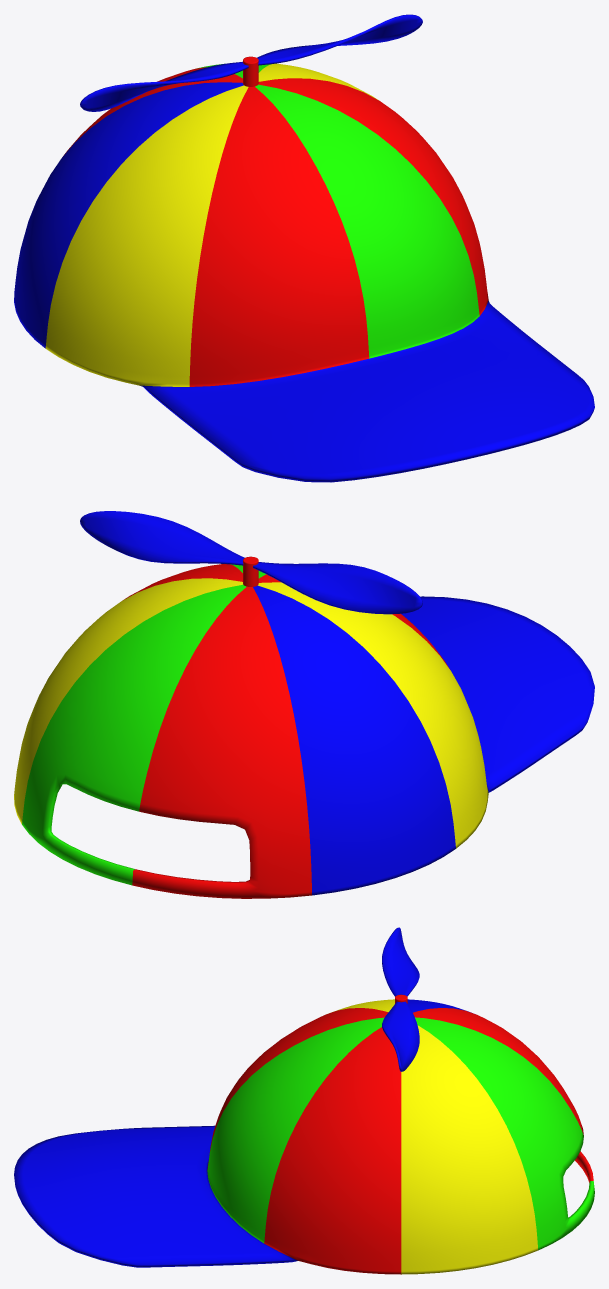
File: Ball_Cap_Propeller.fbx
The picture shows the model from 3 angles, top to bottom: view 1: azimuth 30°, elevation 25°; view 2: azimuth 150°, elevation 25°; view 3: azimuth 270°, elevation 25°; orthographic projection. The views are drawn at different scales.
Parts seen in each view (by area): view 1: cap, propeller; view 2: cap, propeller; view 3: cap, propeller.
Part boxes in pixels (x1,y1,x2,y2): cap: [14, 56, 594, 482]; propeller: [80, 14, 422, 111]; cap: [14, 556, 594, 898]; propeller: [80, 511, 422, 614]; cap: [14, 994, 594, 1274]; propeller: [382, 927, 419, 1071].
Bounding box in the file's own units: 95.35 × 57.65 × 143.
